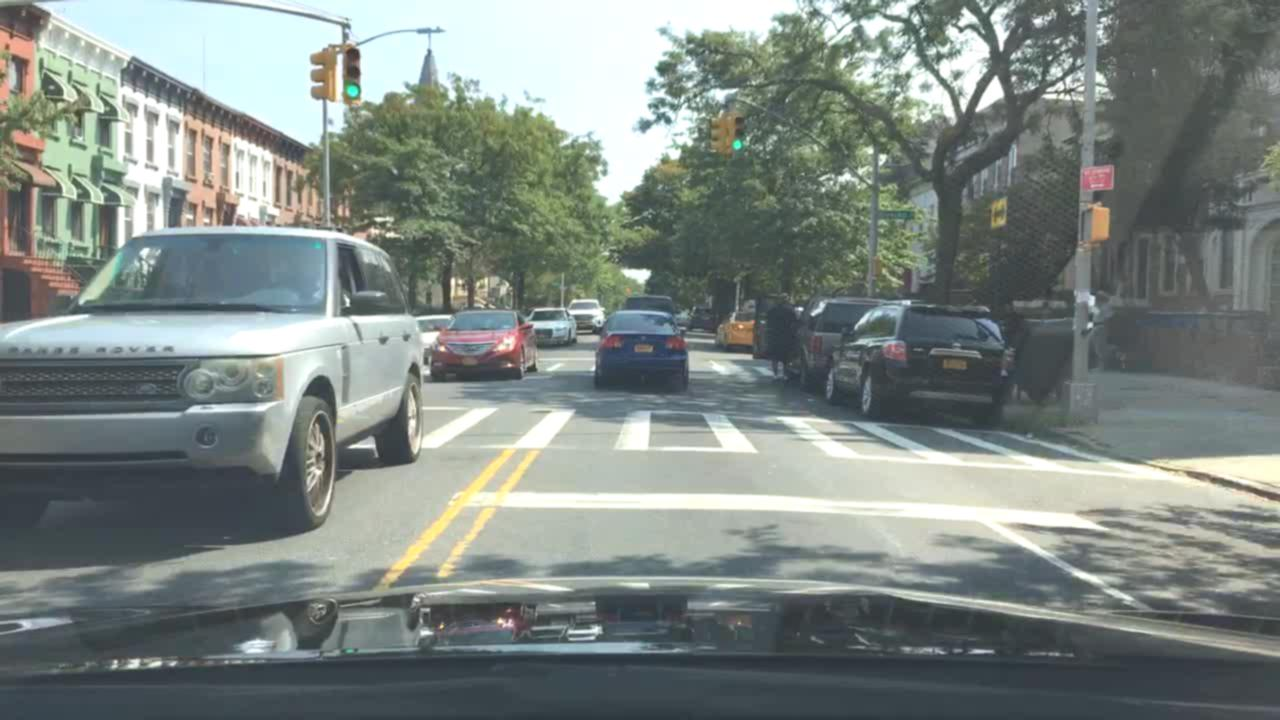range rover: (3, 340, 189, 360)
